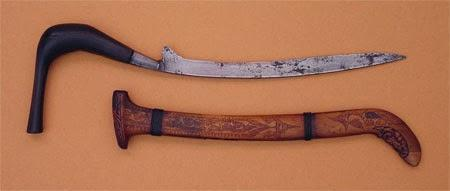facao: (17, 5, 417, 103), (111, 73, 437, 176)
